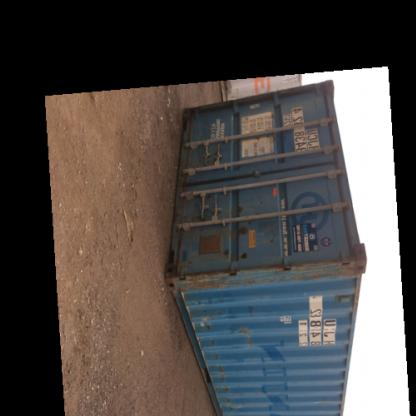Damage: (196, 317, 232, 410), (288, 254, 368, 282), (163, 264, 231, 290), (228, 270, 296, 288), (256, 217, 280, 247), (188, 201, 209, 227), (238, 320, 254, 348), (235, 220, 256, 238), (186, 302, 218, 312), (239, 302, 257, 317), (217, 242, 231, 260), (234, 249, 250, 264), (233, 203, 244, 217)
